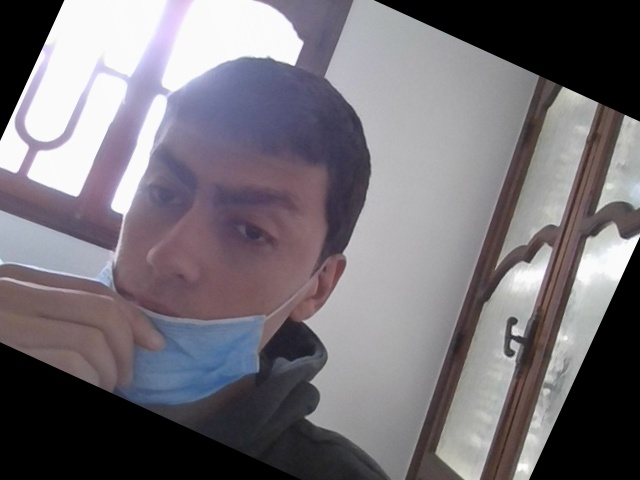mask_weared_incorrect: (108, 98, 327, 400)
